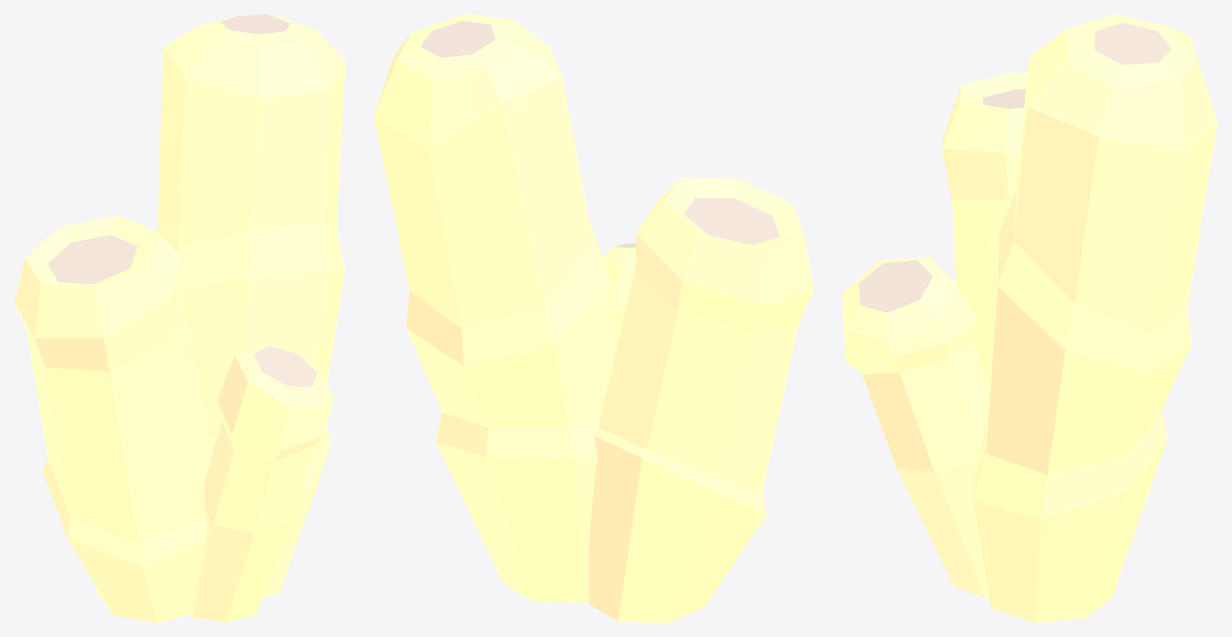
The model's file is coral_sick_yellow.glb.
The picture shows the model from 3 angles, left to right: view 1: azimuth 30°, elevation 25°; view 2: azimuth 150°, elevation 25°; view 3: azimuth 270°, elevation 25°; orthographic projection. The views are drawn at different scales.
Parts seen in each view (by area): view 1: coral_big_yellow; view 2: coral_big_yellow; view 3: coral_big_yellow.
Part boxes in pixels (x1,y1,x2,y2): coral_big_yellow: (14, 14, 345, 622); coral_big_yellow: (374, 14, 813, 622); coral_big_yellow: (842, 14, 1217, 622).
Size of the model in its own units: 0.9709 by 1.38 by 0.7914.
Materials: 1 (1 with a texture image).
